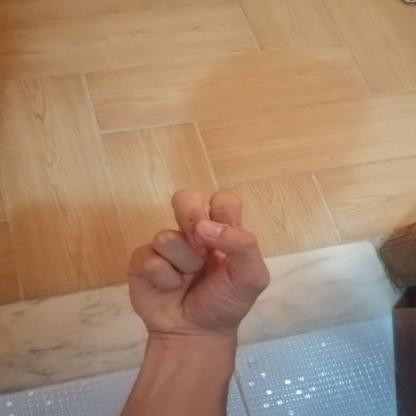QAAF: (108, 176, 296, 350)
